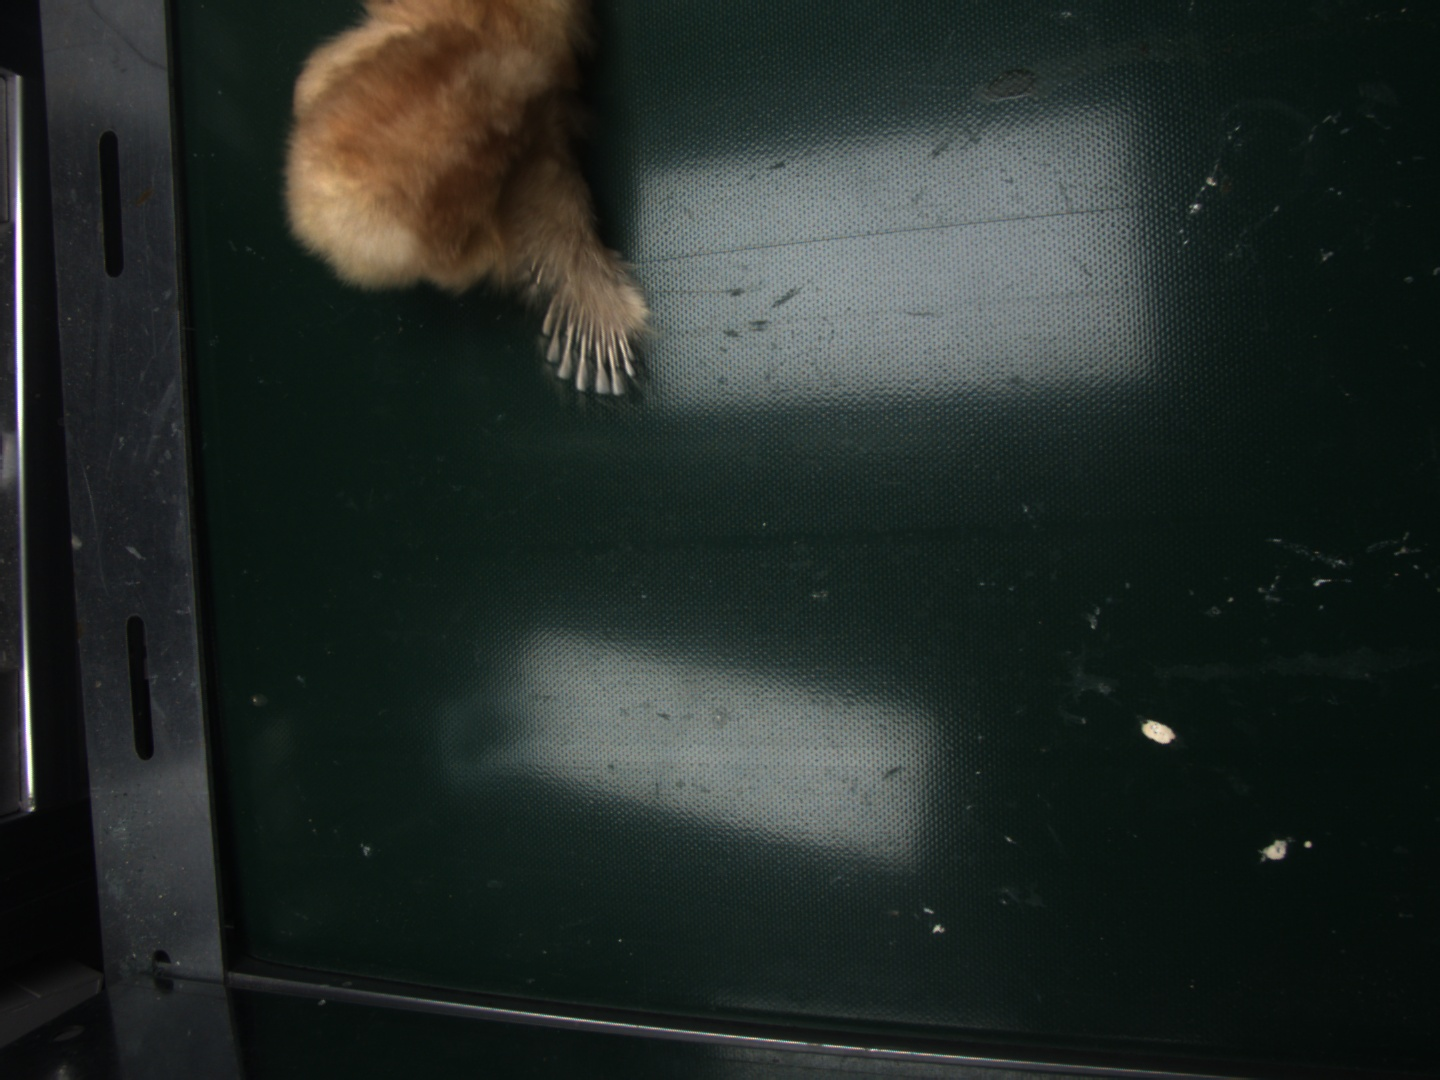female: (545, 299, 641, 405)
